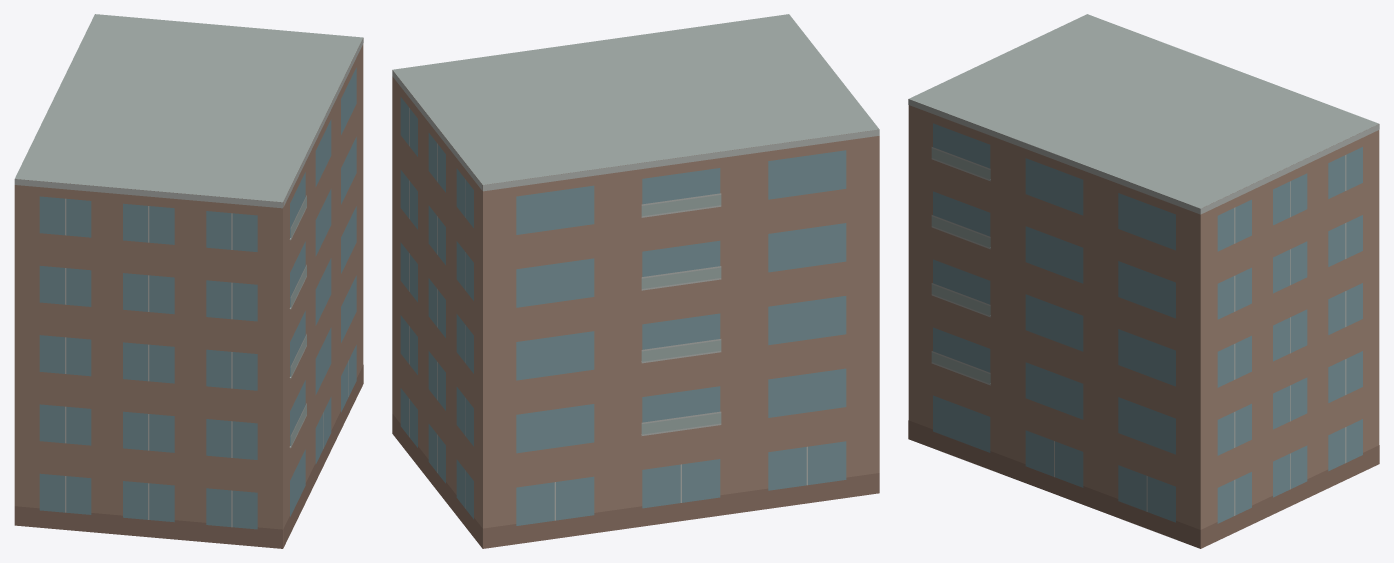
File: survey-upis-32537390.glb
3 renders of one model, left to right at view 1: azimuth 30°, elevation 25°; view 2: azimuth 150°, elevation 25°; view 3: azimuth 270°, elevation 25°, orthographic. The views are drawn at different scales.
Parts seen in each view (by area): view 1: survey-upis-32537390.tmp; view 2: survey-upis-32537390.tmp; view 3: survey-upis-32537390.tmp.
Boxes of the visible parts, <box> form: survey-upis-32537390.tmp: <box>14,14,363,548</box>; survey-upis-32537390.tmp: <box>392,14,879,548</box>; survey-upis-32537390.tmp: <box>908,14,1379,548</box>.
Bounding box in the file's own units: 17.19 × 14 × 17.57.
